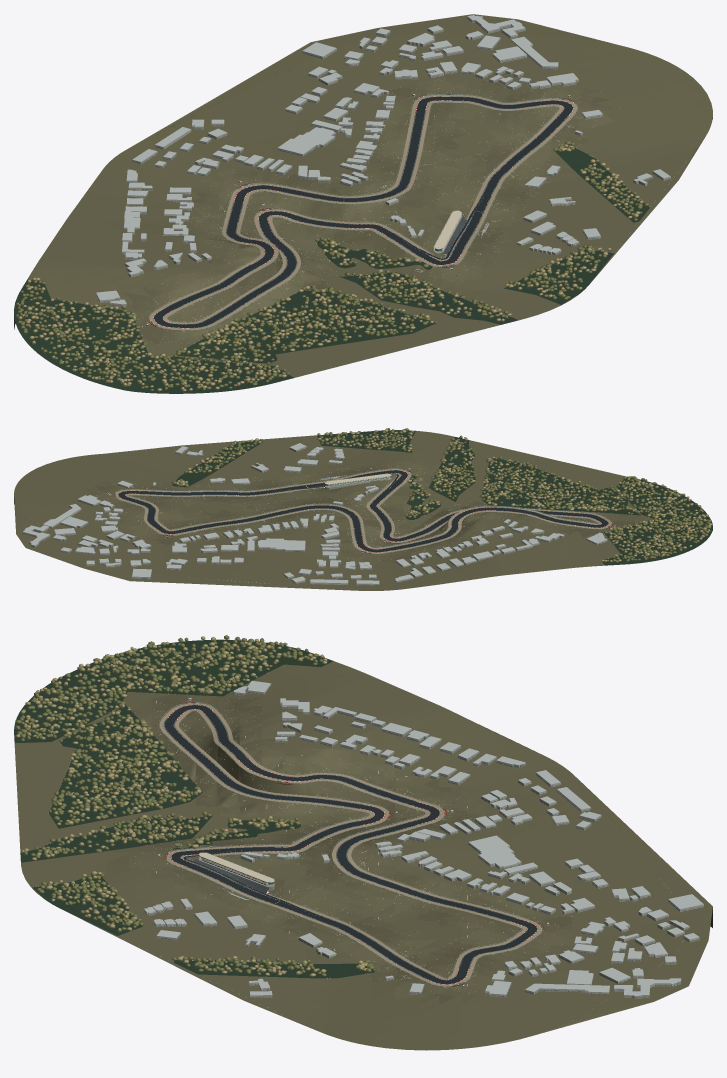
Rendered from Kyalami.glb.
3 views of the same model, one above another, from view 1: azimuth 30°, elevation 25°; view 2: azimuth 150°, elevation 25°; view 3: azimuth 270°, elevation 25° (orthographic). The views are drawn at different scales.
Parts seen in each view (by area): view 1: terrain/ground, terrain-woodland/forestFloor, scenery/leaves, terrain-ground-finish-1, terrain-ground-finish-3, terrain-ground-finish-2, road/asphalt, terrain-ground-finish-0, scenery/leavesLight, terrain-ground-finish-4, runoff/gravel, terrain-extension/land (+10 smaller); view 2: terrain/ground, terrain-woodland/forestFloor, scenery/leaves, terrain-ground-finish-1, terrain-ground-finish-3, terrain-ground-finish-2, road/asphalt, runoff/gravel, scenery/leavesLight, terrain-ground-finish-0, terrain-extension/land, terrain-ground-finish-4 (+16 smaller); view 3: terrain/ground, terrain-woodland/forestFloor, scenery/leaves, terrain-ground-finish-1, terrain-ground-finish-3, terrain-ground-finish-2, road/asphalt, runoff/gravel, terrain-ground-finish-0, terrain-ground-finish-4, scenery/leavesLight, terrain-extension/land (+13 smaller).
Boxes of the visible parts, x1,y1,x2,y2 form: terrain/ground: [27, 33, 712, 377]; terrain-woodland/forestFloor: [14, 145, 649, 393]; scenery/leaves: [15, 142, 649, 390]; terrain-ground-finish-1: [119, 81, 614, 347]; terrain-ground-finish-3: [162, 77, 608, 341]; terrain-ground-finish-2: [136, 80, 621, 344]; road/asphalt: [154, 96, 572, 327]; terrain-ground-finish-0: [123, 81, 610, 348]; scenery/leavesLight: [18, 145, 643, 391]; terrain-ground-finish-4: [171, 79, 614, 338]; runoff/gravel: [149, 95, 577, 329]; terrain-extension/land: [132, 14, 704, 282]; terrain/ground: [14, 430, 653, 590]; terrain-woodland/forestFloor: [172, 430, 712, 565]; scenery/leaves: [171, 428, 711, 562]; terrain-ground-finish-1: [89, 461, 631, 563]; terrain-ground-finish-3: [97, 460, 618, 565]; terrain-ground-finish-2: [92, 459, 624, 563]; road/asphalt: [118, 470, 608, 552]; runoff/gravel: [115, 469, 611, 553]; scenery/leavesLight: [176, 428, 712, 562]; terrain-ground-finish-0: [88, 467, 634, 560]; terrain-extension/land: [14, 431, 367, 590]; terrain-ground-finish-4: [105, 462, 609, 562]; terrain/ground: [14, 661, 687, 1050]; terrain-woodland/forestFloor: [14, 639, 374, 978]; scenery/leaves: [15, 635, 371, 976]; terrain-ground-finish-1: [133, 691, 572, 1003]; terrain-ground-finish-3: [129, 711, 572, 998]; terrain-ground-finish-2: [129, 695, 566, 1006]; road/asphalt: [164, 705, 537, 984]; runoff/gravel: [159, 703, 541, 986]; terrain-ground-finish-0: [131, 694, 572, 1004]; terrain-ground-finish-4: [134, 713, 571, 998]; scenery/leavesLight: [15, 636, 367, 976]; terrain-extension/land: [68, 778, 712, 1034].
Bounding box in the file's own units: 2171 × 76.99 × 1577.
